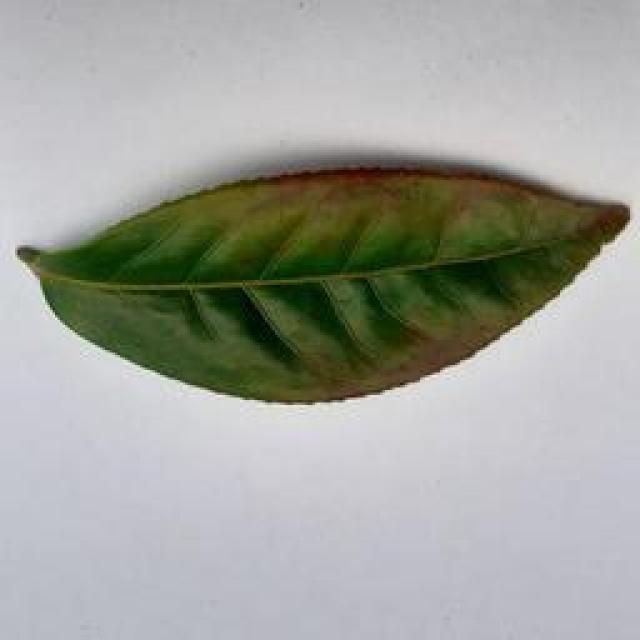Red Leaf Spot: (15, 145, 640, 423)
